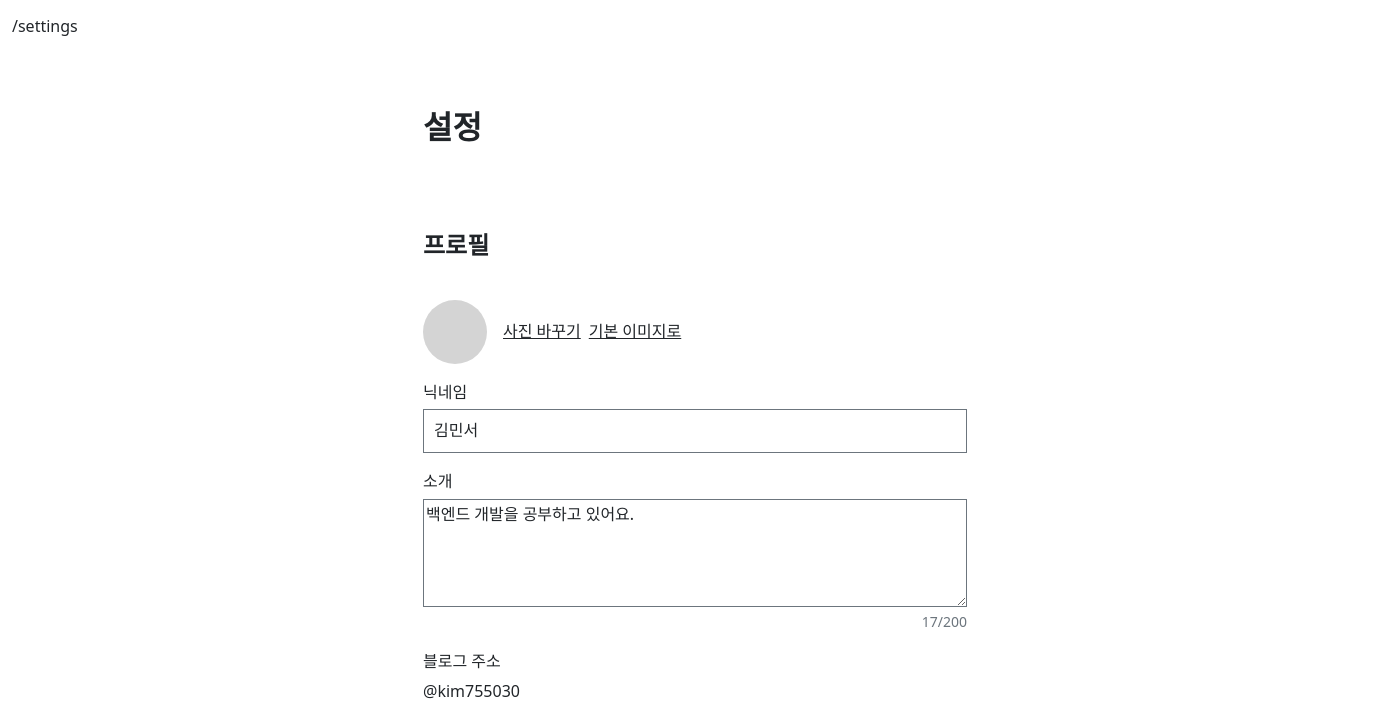
Test: SettingsPage (FR-046~053) › [기본 이미지로]는 profileImageId null을 보낸다
This screenshot has width=1378, height=707.
Step 1. Click the button "기본 이미지로" → (635, 332), box [589,319,681,345]
(page scrolled)
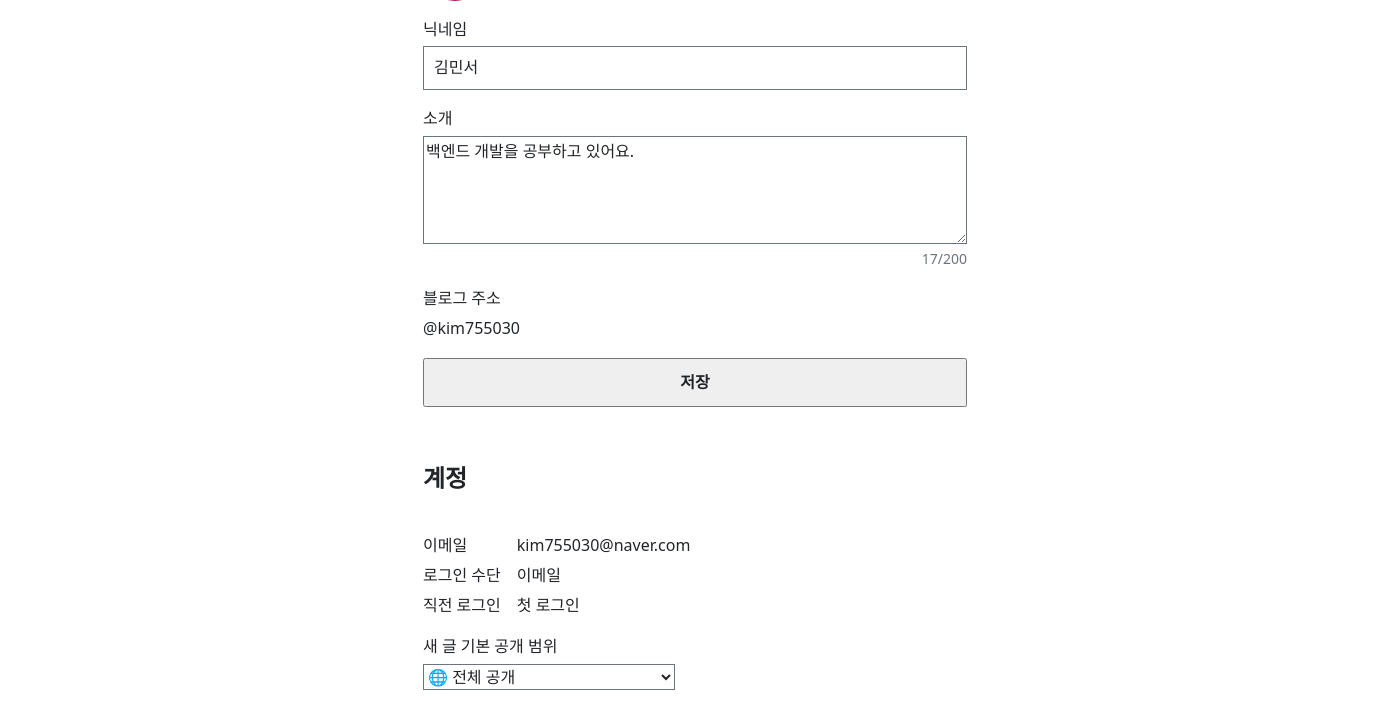
Step 2. Click the button "저장" → (695, 382), box [423,358,967,407]
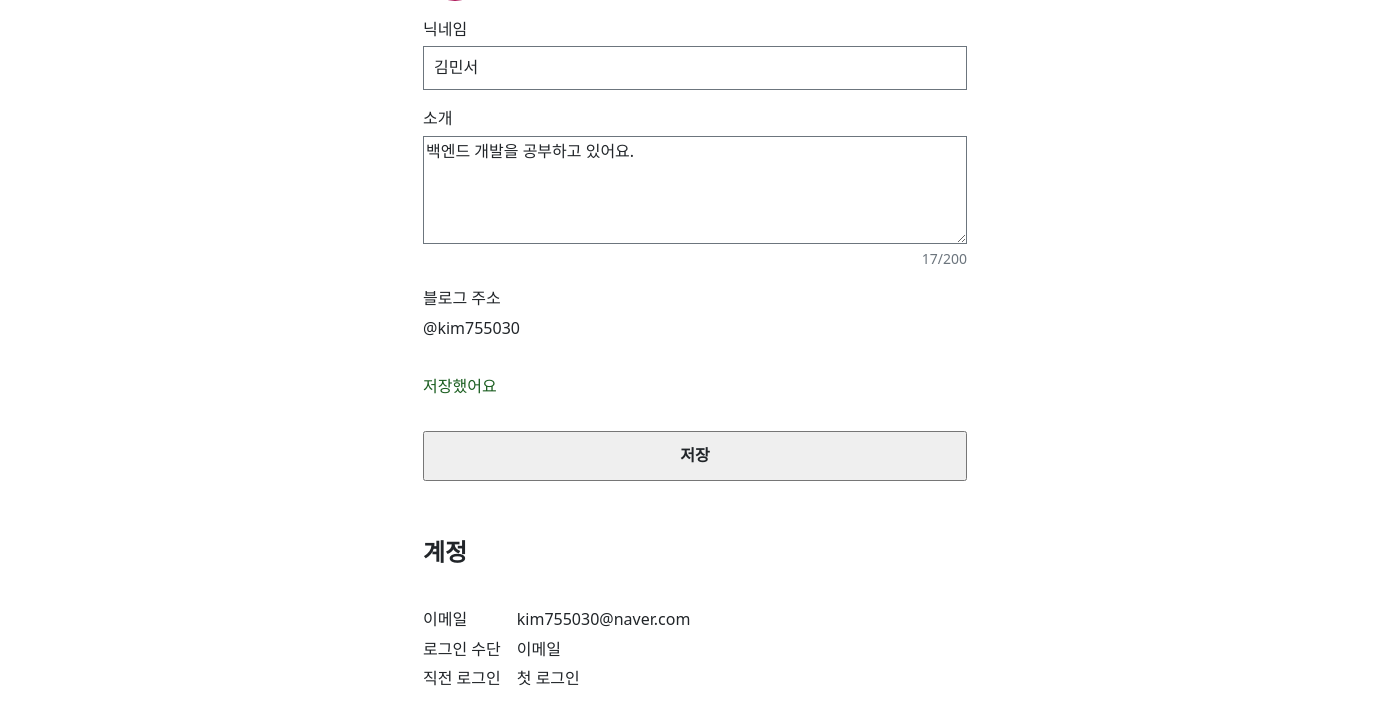
Check: the text "저장했어요" is shown, box [423,375,497,397]
